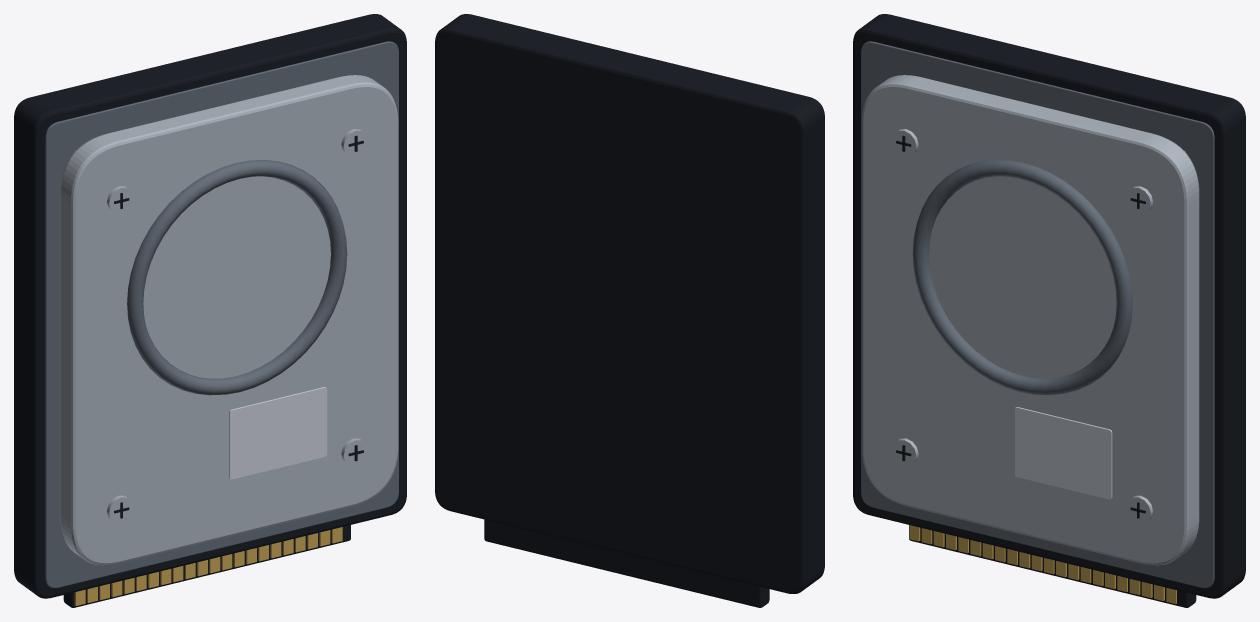
File: nexrig-hdd.glb
3 renders of one model, left to right at view 1: azimuth 30°, elevation 25°; view 2: azimuth 150°, elevation 25°; view 3: azimuth 330°, elevation 25°, orthographic.
Parts seen in each view (by area): view 1: Original generic enclosed hard drive; view 2: Original generic enclosed hard drive; view 3: Original generic enclosed hard drive.
Boxes of the visible parts, left/top/right/bottom form: Original generic enclosed hard drive: left=14, top=14, right=406, bottom=607; Original generic enclosed hard drive: left=435, top=14, right=824, bottom=607; Original generic enclosed hard drive: left=853, top=14, right=1245, bottom=607.
Size of the model in its own units: 0.732 by 0.9585 by 0.143.
